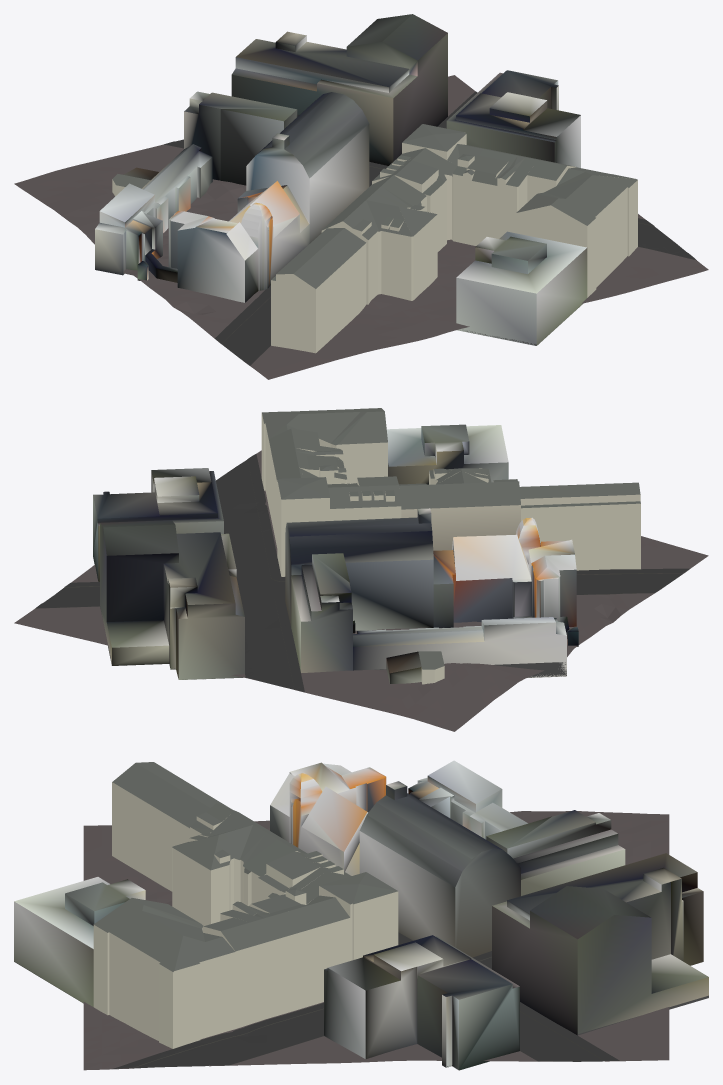
The picture shows the model from 3 angles, top to bottom: view 1: azimuth 30°, elevation 25°; view 2: azimuth 150°, elevation 25°; view 3: azimuth 270°, elevation 25°; orthographic projection. The views are drawn at different scales.
Visible parts, largest first — view 1: c_m09_p04; view 2: c_m09_p04; view 3: c_m09_p04.
Boxes of the visible parts, bbox=[...] form: c_m09_p04: bbox=[14, 14, 708, 379]; c_m09_p04: bbox=[14, 408, 708, 731]; c_m09_p04: bbox=[14, 760, 708, 1070].
Bounding box in the file's own units: 136 × 31.76 × 152.
